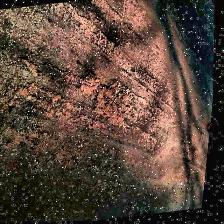pothole: (81, 70, 152, 136)
